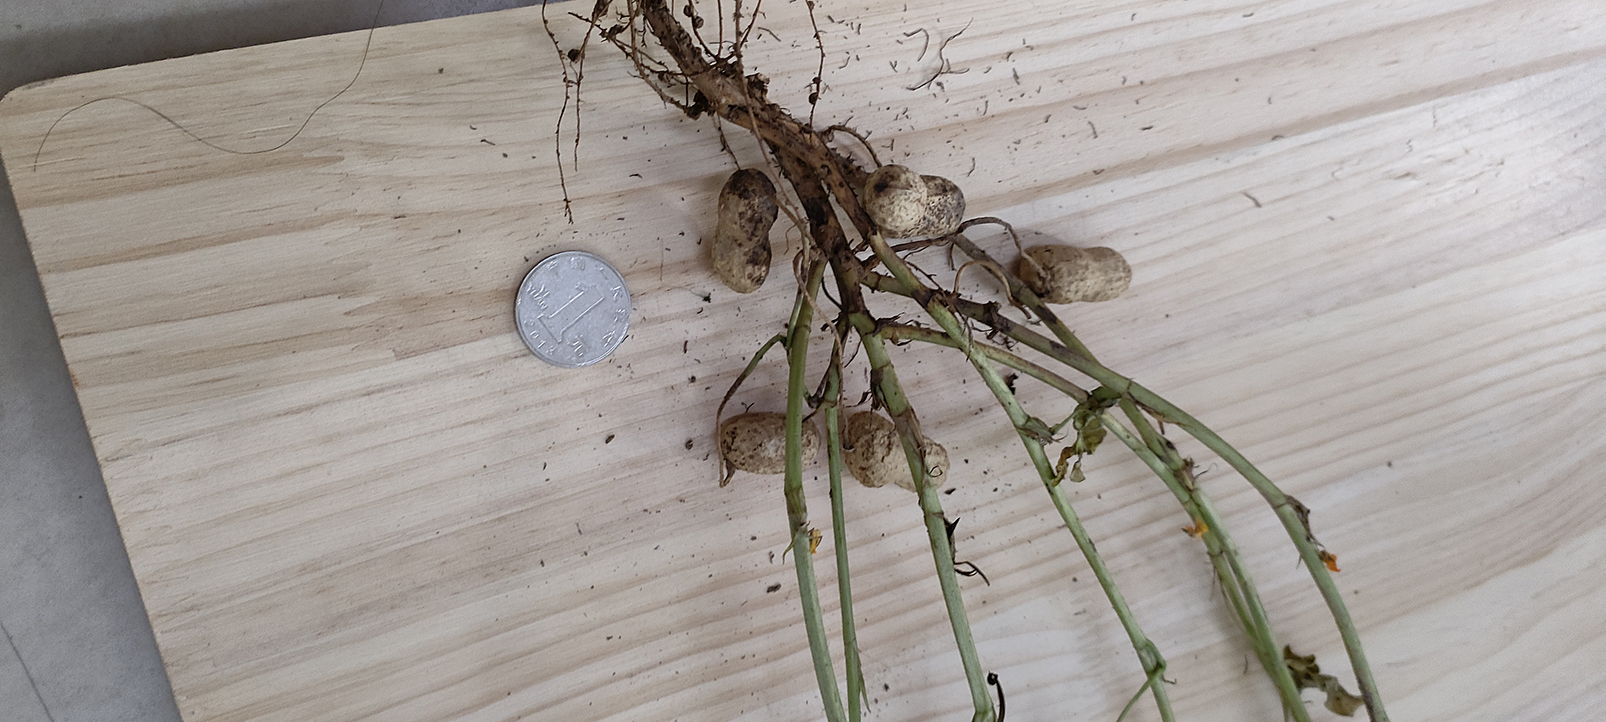h: (846, 413, 949, 491), (864, 163, 969, 238), (1020, 245, 1134, 302)
l: (711, 169, 776, 293), (720, 411, 820, 474)
